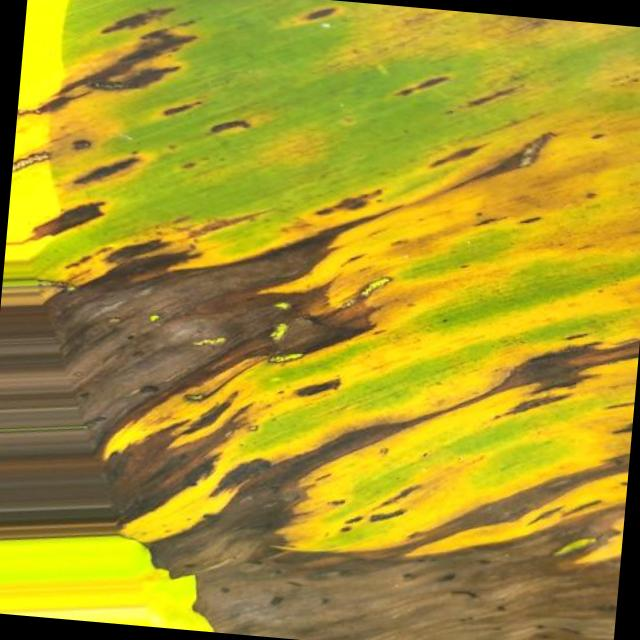Banana_Black_Sigatoka: (335, 88, 640, 498), (35, 249, 446, 529), (202, 424, 628, 640), (22, 0, 269, 269)
